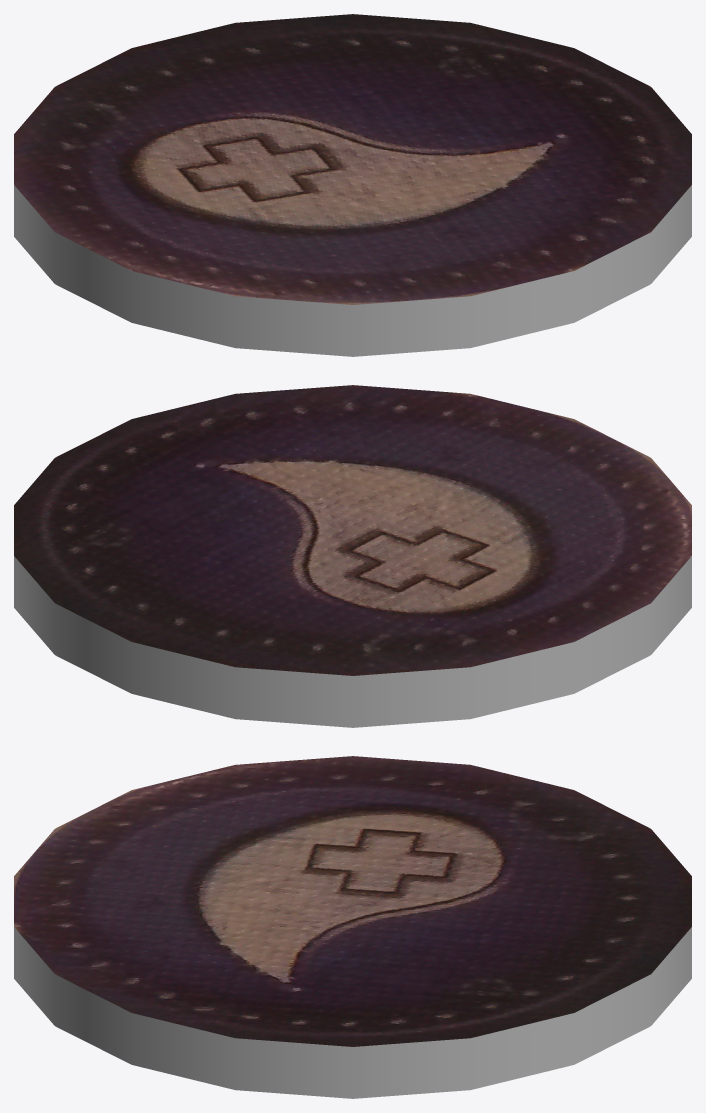
Rendered from Resting.FBX.
3 renders of one model, top to bottom at view 1: azimuth 30°, elevation 25°; view 2: azimuth 150°, elevation 25°; view 3: azimuth 270°, elevation 25°, orthographic.
Parts seen in each view (by area): view 1: Object001, Cylinder001; view 2: Object001, Cylinder001; view 3: Object001, Cylinder001.
Boxes of the visible parts, left/top/right/bottom form: Object001: left=14, top=14, right=691, bottom=304; Cylinder001: left=14, top=185, right=691, bottom=356; Object001: left=14, top=385, right=691, bottom=675; Cylinder001: left=14, top=556, right=691, bottom=727; Object001: left=14, top=756, right=691, bottom=1046; Cylinder001: left=14, top=927, right=691, bottom=1098.
Size of the model in its own units: 48.09 by 4 by 47.36.
